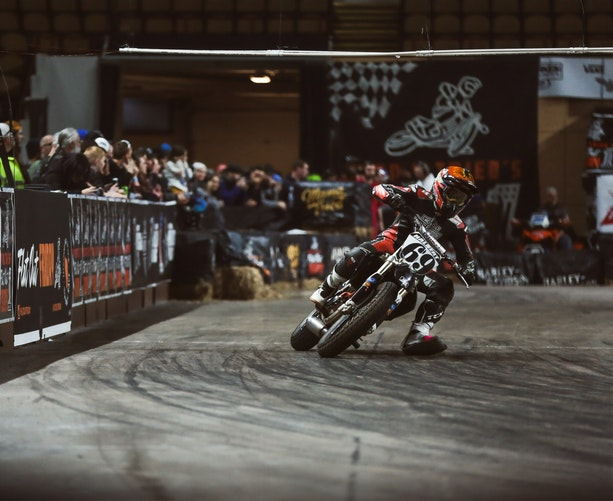helmet: (420, 160, 483, 223)
